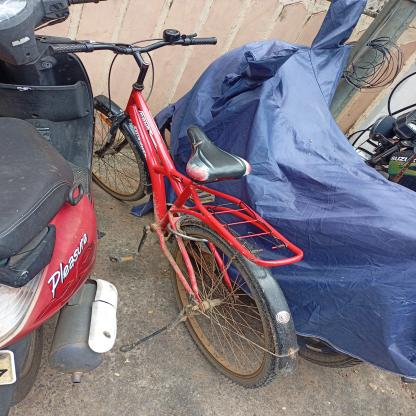bicycle: (31, 15, 324, 396)
